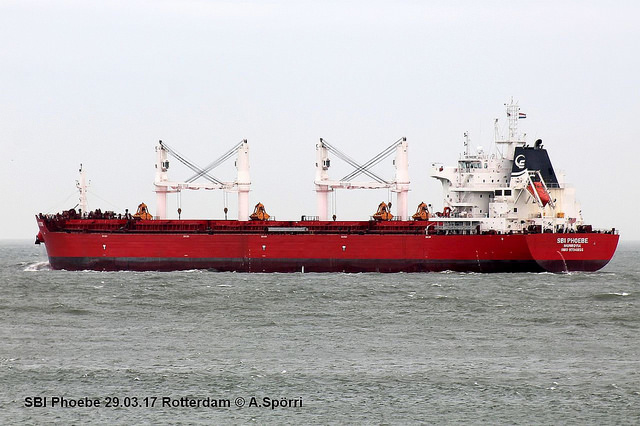bulk carrier: (32, 106, 626, 273)
